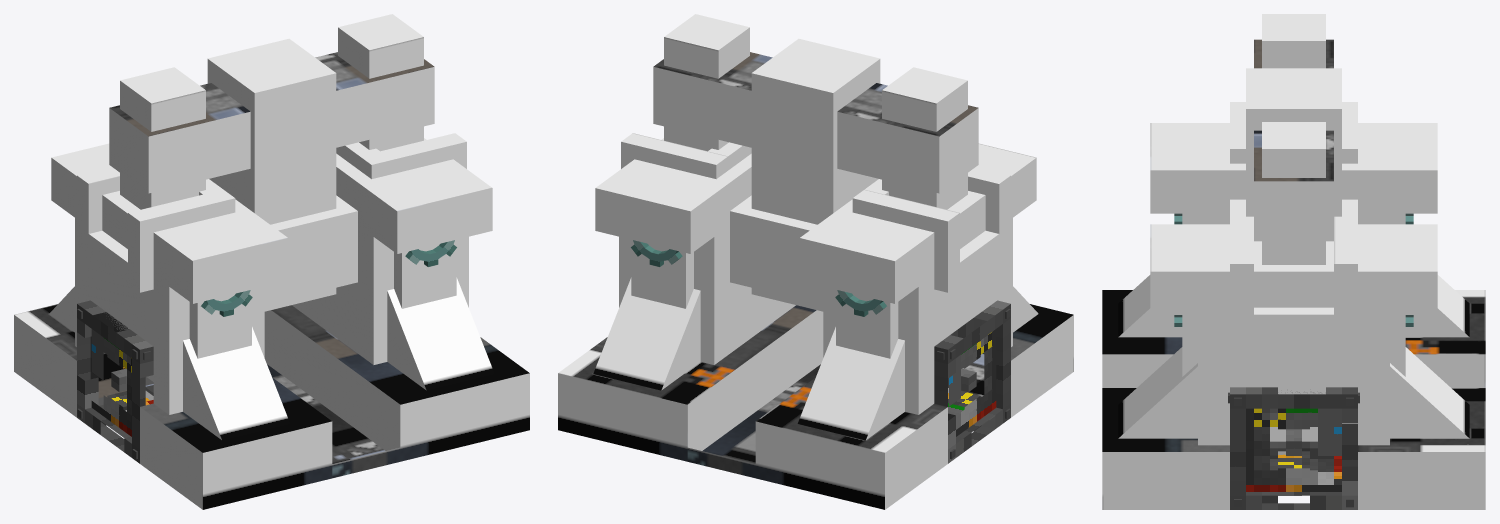
File: forging_press.obj
3 renders of one model, left to right at view 1: azimuth 30°, elevation 25°; view 2: azimuth 150°, elevation 25°; view 3: azimuth 270°, elevation 25°, orthographic.
Parts seen in each view (by area): view 1: cube; view 2: cube; view 3: cube.
Boxes of the visible parts, x1,y1,x2,y2 form: cube: (14, 14, 529, 509); cube: (558, 14, 1073, 509); cube: (1102, 14, 1485, 509).
Size of the model in its own units: 3.03 by 3 by 3.
